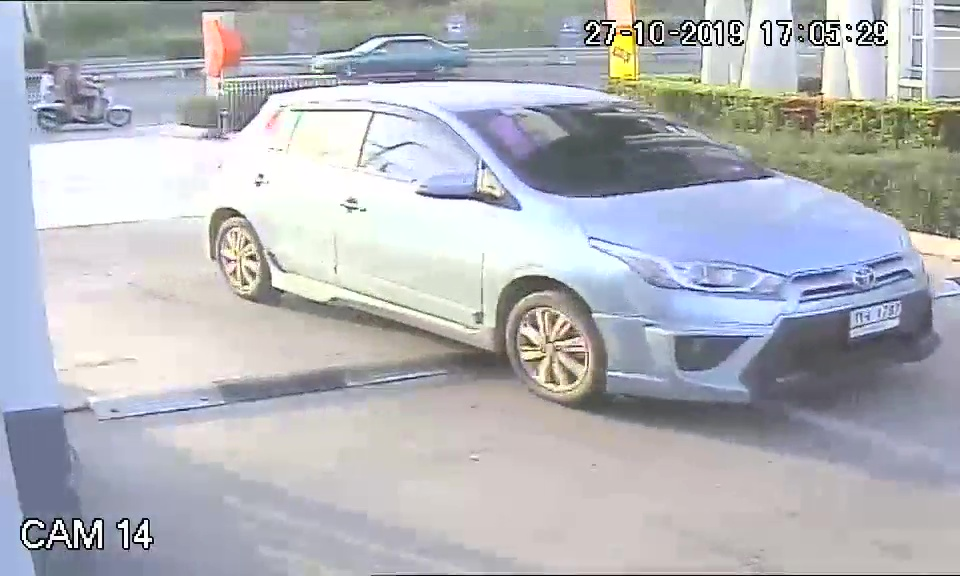sedan: (200, 78, 943, 417)
